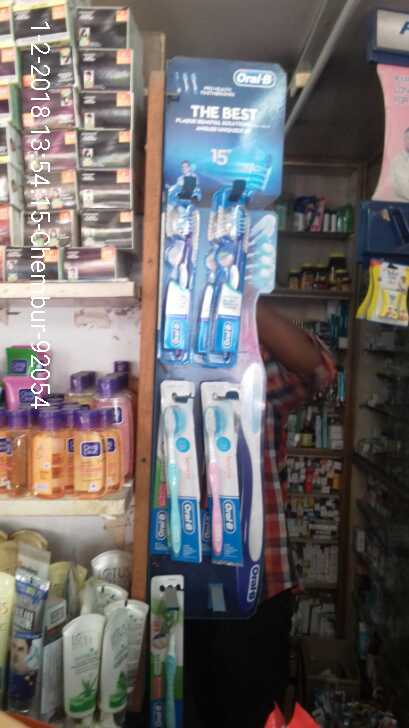oralb: (199, 399, 250, 569), (205, 197, 253, 364), (160, 197, 194, 361), (163, 403, 187, 553)
